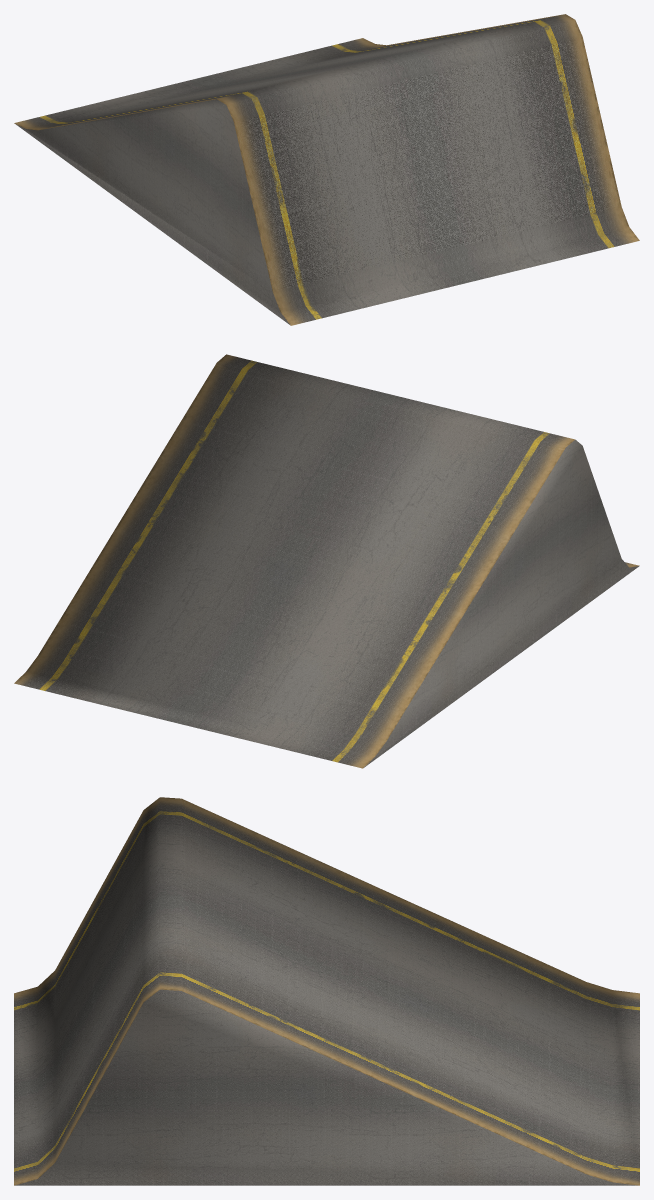
File: road.107.fbx
3 renders of one model, top to bottom at view 1: azimuth 30°, elevation 25°; view 2: azimuth 150°, elevation 25°; view 3: azimuth 270°, elevation 25°, orthographic. The views are drawn at different scales.
Parts seen in each view (by area): view 1: road_107; view 2: road_107; view 3: road_107.
Part boxes in pixels (x1,y1,x2,y2): road_107: (14,14,639,325); road_107: (14,354,639,768); road_107: (14,797,639,1185).
Size of the model in its own units: 8 by 3.8 by 11.
